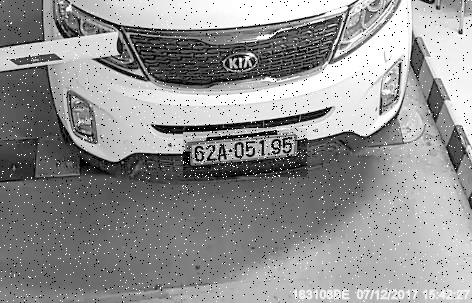License-plate: (185, 130, 310, 180)
